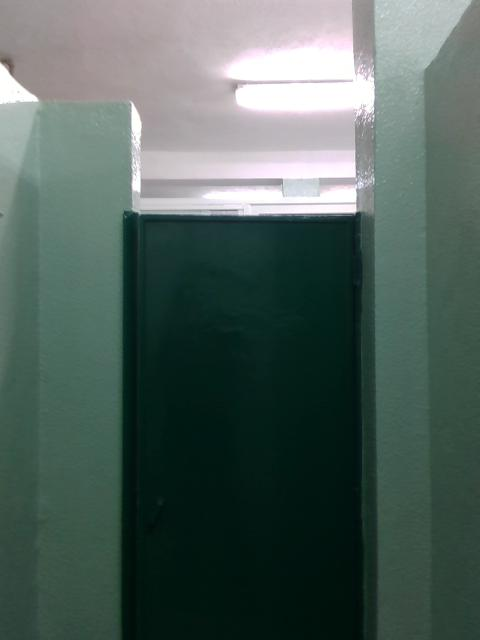closed_door: (120, 211, 364, 638)
